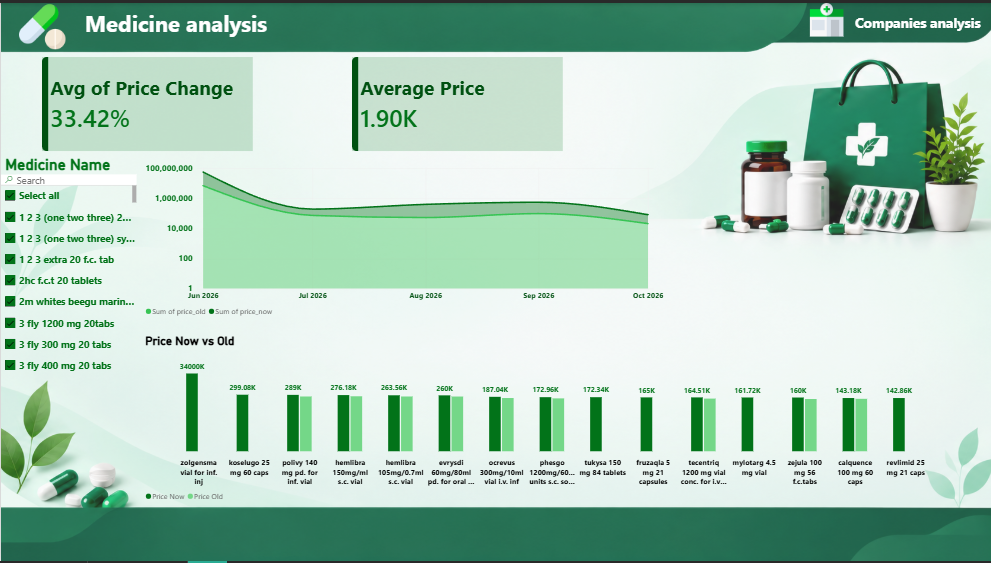

The dashboard page shown, as its layout file describes it:
{"tool":"powerbi","page":{"name":"Medicine","canvas":[1920,1080],"ordinal":0},"visuals":[{"type":"image","box":[35,0,90,92.5],"z":0},{"type":"textbox","box":[162.5,10,362.5,72.5],"z":1000},{"type":"image","box":[1542.5,0,110,65],"z":2000},{"type":"textbox","box":[1652.5,20,267.5,55],"z":3000},{"type":"slicer","title":"Medcine","fields":{"Values":["Full Data.name_en"]},"box":[0,296,262,430],"z":4000},{"type":"clusteredColumnChart","title":"Price Now vs Old","fields":{"Category":["Full Data.name_en"],"Y":["Sum(Full Data.price_now)","Sum(Full Data.price_old)"]},"box":[262.5,627.5,1607.5,357.5],"z":5000},{"type":"stackedAreaChart","fields":{"Category":["Update Calendar.Date.Variation.Date Hierarchy.Year","Update Calendar.Date.Variation.Date Hierarchy.Quarter","Update Calendar.Date.Variation.Date Hierarchy.Month"],"Y":["Sum(Full Data.price_old)","Sum(Full Data.price_now)"]},"box":[262.5,295,1035,332.5],"z":6000},{"type":"cardVisual","fields":{"Data":["Avg(Full Data.Precentage Of Price Chabge)"]},"box":[80,105,408,182],"z":7000},{"type":"cardVisual","fields":{"Data":["Avg(Full Data.price_now)"]},"box":[680,105,408,182],"z":8000},{"type":"actionButton","box":[1552.5,0,367.5,82.5],"z":9000}]}

Visuals, with their boxes in screenshot pixels (x1, y1, x2, y2), scaled from the page's 1920x1080 canvas onto the 991x563 screenshot:
image: region(18, 0, 65, 48)
textbox: region(84, 5, 271, 43)
image: region(796, 0, 853, 34)
textbox: region(853, 10, 990, 39)
"Medcine" slicer: region(0, 154, 135, 378)
"Price Now vs Old" clusteredColumnChart: region(135, 327, 965, 513)
stackedAreaChart - Update Calendar.Date.Variation.Date Hierarchy.Year x Update Calendar.Date.Variation.Date Hierarchy.Quarter: region(135, 154, 670, 327)
cardVisual - Avg(Full Data.Precentage Of Price Chabge): region(41, 55, 252, 150)
cardVisual - Avg(Full Data.price_now): region(351, 55, 562, 150)
actionButton: region(801, 0, 990, 43)
